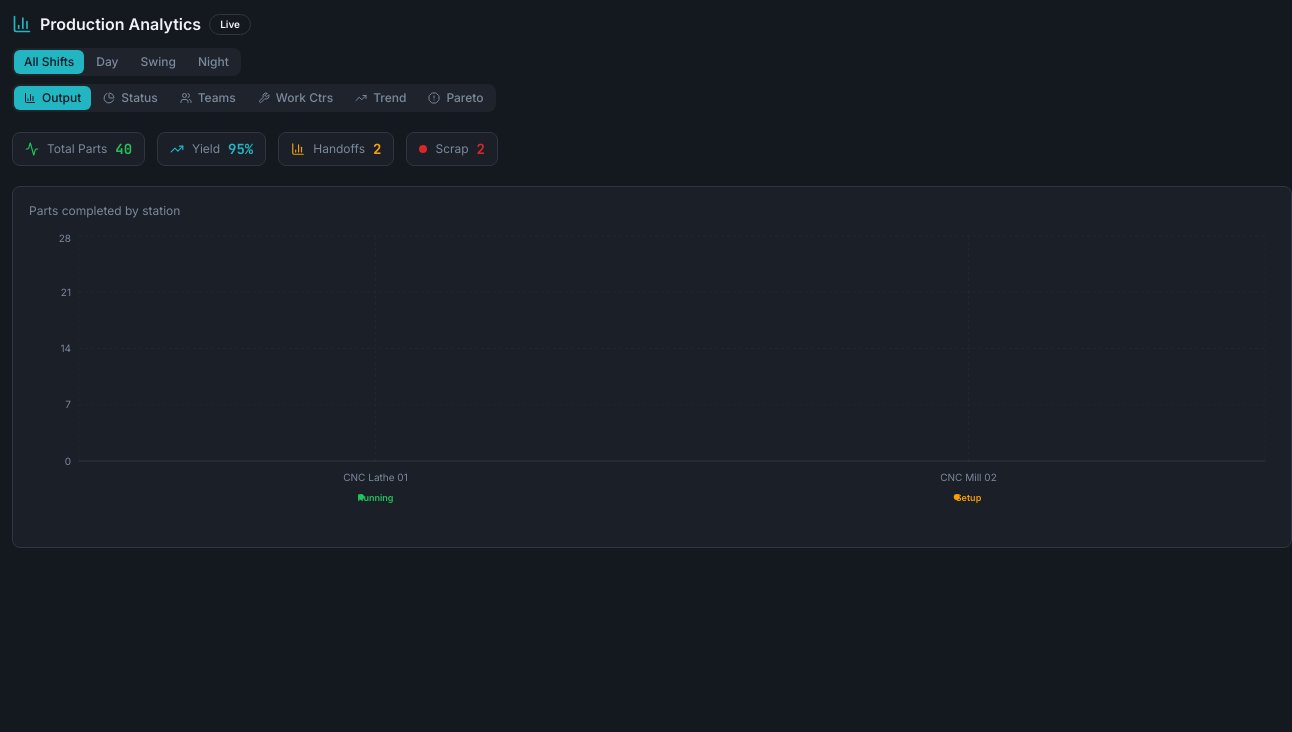
ProductionAnalytics › filters handoffs by shift when filter is selected
The image size is (1292, 732).
Click the button "Day": (107, 62) x1=86 y1=50 x2=128 y2=74
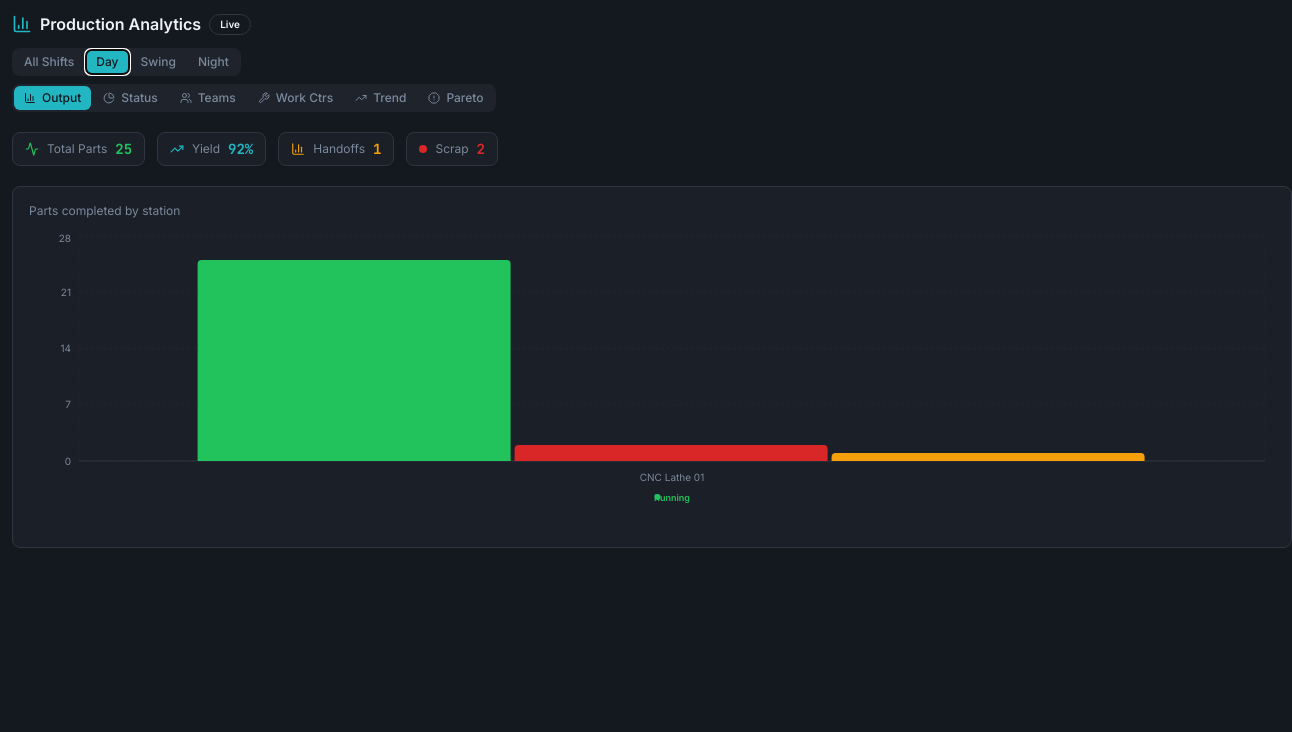
expect the button "Day" is pressed: met, box x1=86 y1=50 x2=128 y2=74
